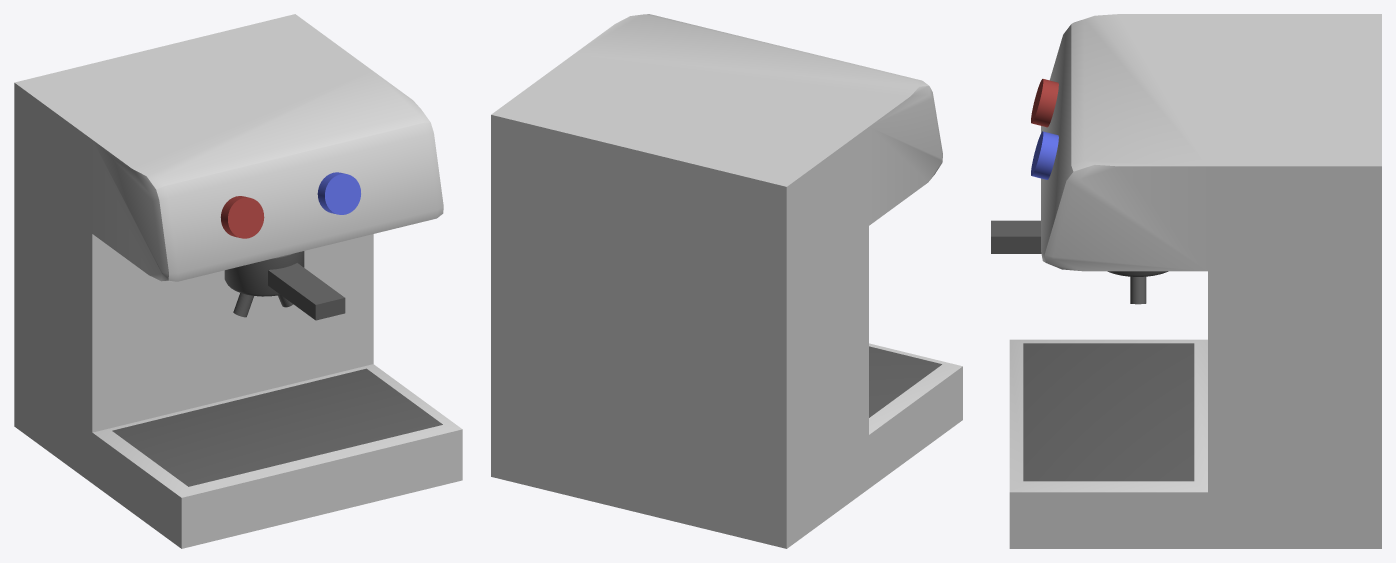
Rendered from coffee machine.fbx.
The picture shows the model from 3 angles, left to right: view 1: azimuth 30°, elevation 25°; view 2: azimuth 150°, elevation 25°; view 3: azimuth 270°, elevation 25°; orthographic projection. The views are drawn at different scales.
Visible parts, largest first — view 1: Cube; view 2: Cube; view 3: Cube.
Part boxes in pixels (bbox=[...]): Cube: bbox=[14, 14, 462, 548]; Cube: bbox=[491, 14, 962, 548]; Cube: bbox=[991, 14, 1381, 548].
Bounding box in the file's own units: 173 × 202 × 187.
